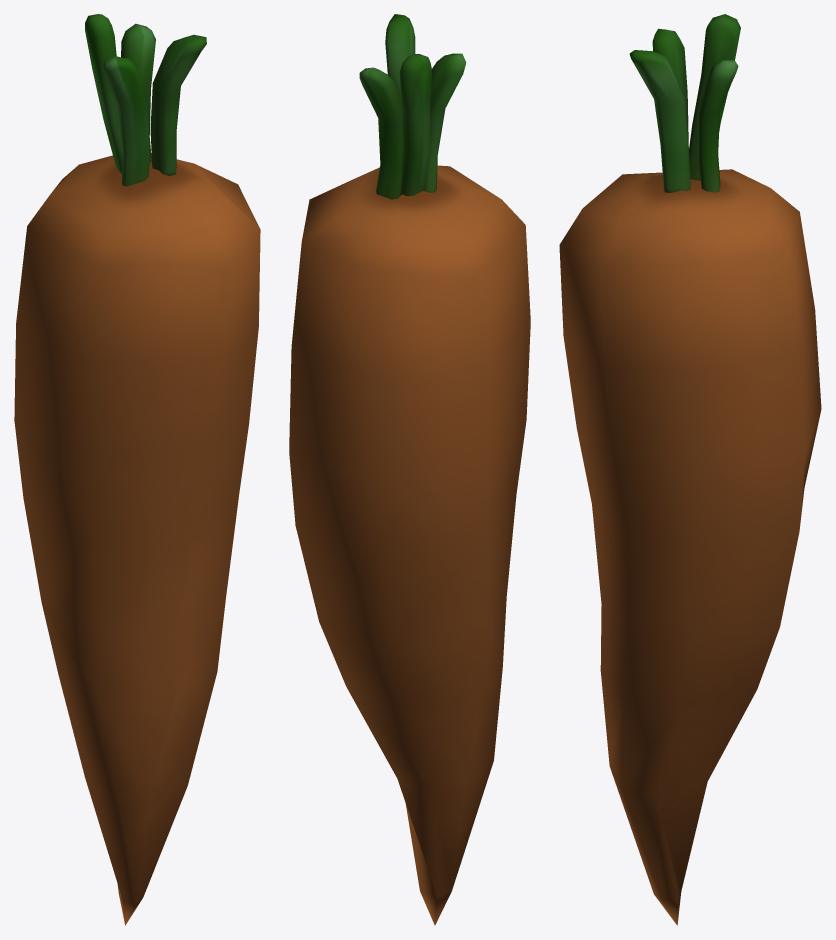
File: CarrotWhole.fbx
3 renders of one model, left to right at view 1: azimuth 30°, elevation 25°; view 2: azimuth 150°, elevation 25°; view 3: azimuth 270°, elevation 25°, orthographic. The views are drawn at different scales.
Parts seen in each view (by area): view 1: CarrotLowPoly; view 2: CarrotLowPoly; view 3: CarrotLowPoly.
Part boxes in pixels (bbox=[...]): CarrotLowPoly: bbox=[14, 14, 260, 925]; CarrotLowPoly: bbox=[289, 14, 530, 925]; CarrotLowPoly: bbox=[559, 14, 821, 925].
Size of the model in its own units: 171 by 715 by 187.
1 material, 1 textured.
